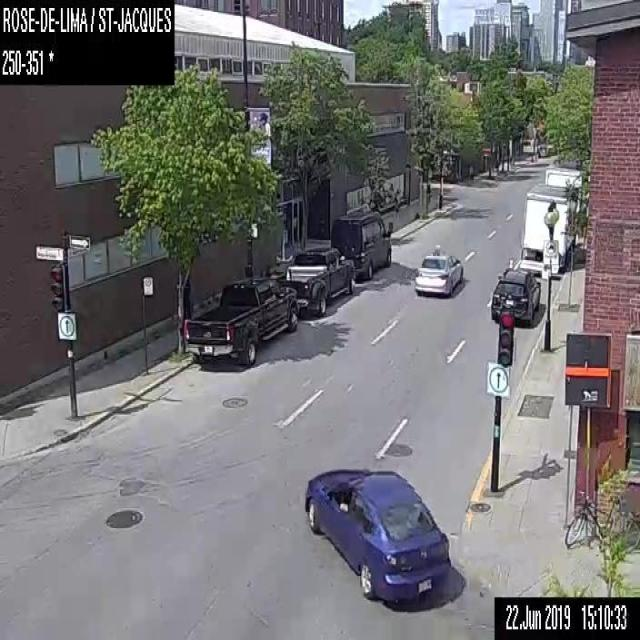vehicle: (301, 464, 450, 601), (181, 273, 297, 365), (520, 182, 584, 277), (275, 246, 355, 318), (330, 213, 392, 277), (489, 266, 541, 324), (545, 164, 581, 246), (413, 243, 462, 296)
